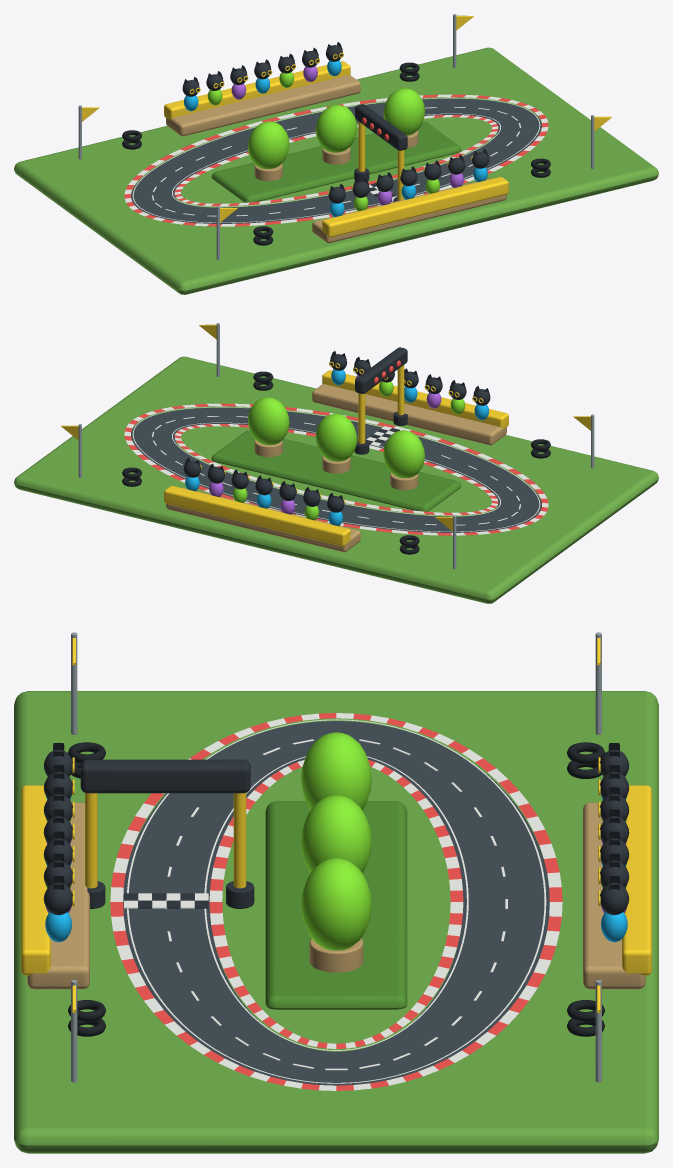
The model's file is race_course.glb.
The picture shows the model from 3 angles, top to bottom: view 1: azimuth 30°, elevation 25°; view 2: azimuth 150°, elevation 25°; view 3: azimuth 270°, elevation 25°; orthographic projection. The views are drawn at different scales.
Visible parts, largest first — view 1: Rounded grassy diorama, Continuous asphalt oval, Infield planted island, Spectator stand lower.001, Spectator stand upper, Spectator stand upper.001, Round clipped tree.001, Round clipped tree, Spectator stand lower, Round clipped tree.002, Starting arch overhead, Outer painted road edge (+1 smaller); view 2: Rounded grassy diorama, Continuous asphalt oval, Infield planted island, Spectator stand lower, Spectator stand upper.001, Spectator stand upper, Round clipped tree.001, Round clipped tree.002, Round clipped tree, Spectator stand lower.001, Starting arch overhead, Outer painted road edge (+1 smaller); view 3: Rounded grassy diorama, Continuous asphalt oval, Infield planted island, Starting arch overhead, Round clipped tree.002, Spectator stand upper, Spectator stand upper.001, Spectator stand lower.001, Spectator stand lower, Round clipped tree, Round clipped tree.001, Outer painted road edge (+4 smaller).
Boxes of the visible parts, x1,y1,x2,y2 form: Rounded grassy diorama: [14, 47, 658, 294]; Continuous asphalt oval: [131, 98, 541, 223]; Infield planted island: [211, 121, 461, 202]; Spectator stand lower.001: [166, 75, 360, 136]; Spectator stand upper: [322, 177, 508, 237]; Spectator stand upper.001: [164, 61, 350, 119]; Round clipped tree.001: [315, 104, 357, 152]; Round clipped tree: [248, 121, 289, 168]; Spectator stand lower: [312, 178, 506, 243]; Round clipped tree.002: [383, 88, 424, 135]; Starting arch overhead: [355, 104, 407, 150]; Outer painted road edge: [132, 97, 540, 222]; Rounded grassy diorama: [14, 356, 658, 603]; Continuous asphalt oval: [131, 407, 541, 532]; Infield planted island: [211, 430, 461, 511]; Spectator stand lower: [312, 384, 506, 445]; Spectator stand upper.001: [164, 486, 350, 546]; Spectator stand upper: [322, 370, 508, 428]; Round clipped tree.001: [315, 413, 357, 461]; Round clipped tree.002: [248, 397, 289, 444]; Round clipped tree: [383, 430, 424, 477]; Spectator stand lower.001: [166, 487, 360, 552]; Starting arch overhead: [355, 347, 407, 393]; Outer painted road edge: [132, 406, 540, 531]; Rounded grassy diorama: [14, 691, 658, 1153]; Continuous asphalt oval: [123, 721, 549, 1085]; Infield planted island: [265, 801, 407, 1009]; Starting arch overhead: [80, 759, 250, 793]; Round clipped tree.002: [301, 858, 371, 950]; Spectator stand upper: [21, 785, 50, 975]; Spectator stand upper.001: [622, 785, 651, 975]; Spectator stand lower.001: [583, 802, 645, 989]; Spectator stand lower: [27, 802, 89, 989]; Round clipped tree: [301, 732, 371, 810]; Round clipped tree.001: [301, 795, 371, 872]; Outer painted road edge: [127, 719, 546, 1083].
Size of the model in its own units: 7.45 by 1.35 by 4.55.
